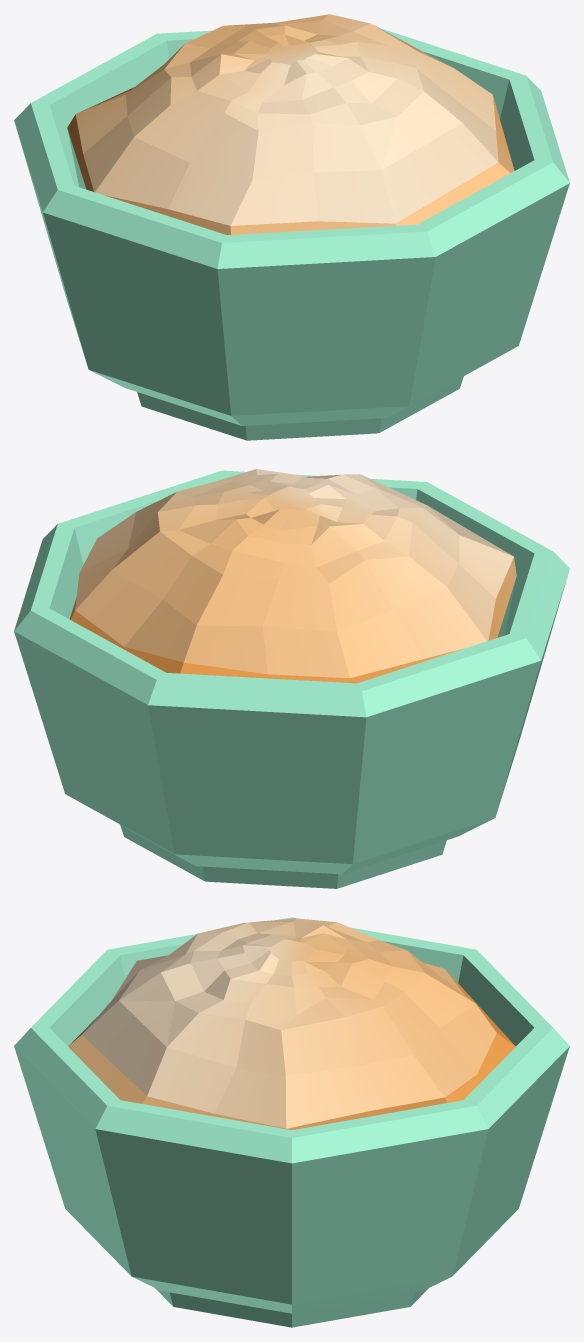
Rendered from Food_ricebowl.fbx.
The picture shows the model from 3 angles, top to bottom: view 1: azimuth 30°, elevation 25°; view 2: azimuth 150°, elevation 25°; view 3: azimuth 270°, elevation 25°; orthographic projection. The views are drawn at different scales.
Visible parts, largest first — view 1: Cup.003; view 2: Cup.003; view 3: Cup.003.
Boxes of the visible parts, left/top/right/bottom form: Cup.003: left=14, top=14, right=569, bottom=440; Cup.003: left=14, top=469, right=569, bottom=888; Cup.003: left=14, top=917, right=569, bottom=1327.
Size of the model in its own units: 16.32 by 10.03 by 16.32.
